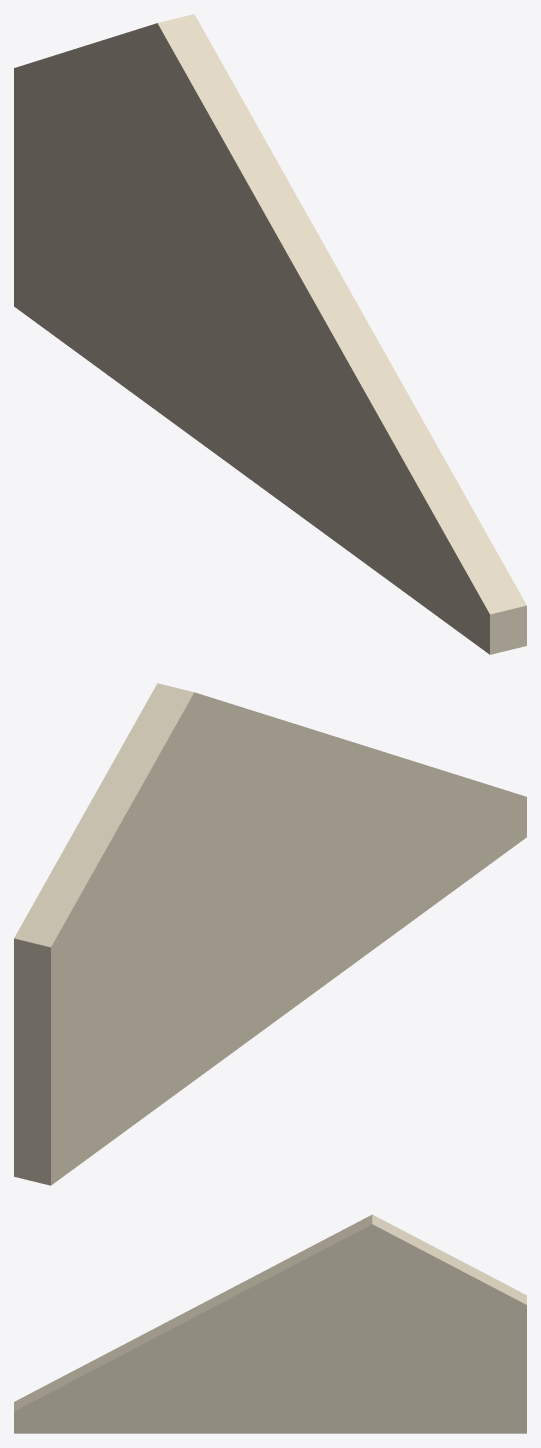
3 renders of one model, top to bottom at view 1: azimuth 30°, elevation 25°; view 2: azimuth 150°, elevation 25°; view 3: azimuth 270°, elevation 25°, orthographic. The views are drawn at different scales.
Parts seen in each view (by area): view 1: B-ROOF-INFILL-05; view 2: B-ROOF-INFILL-05; view 3: B-ROOF-INFILL-05.
Boxes of the visible parts, x1,y1,x2,y2 form: B-ROOF-INFILL-05: [14, 14, 526, 654]; B-ROOF-INFILL-05: [14, 683, 526, 1185]; B-ROOF-INFILL-05: [14, 1214, 526, 1433].
Bounding box in the file's own units: 0.16 × 1.61 × 3.57.
